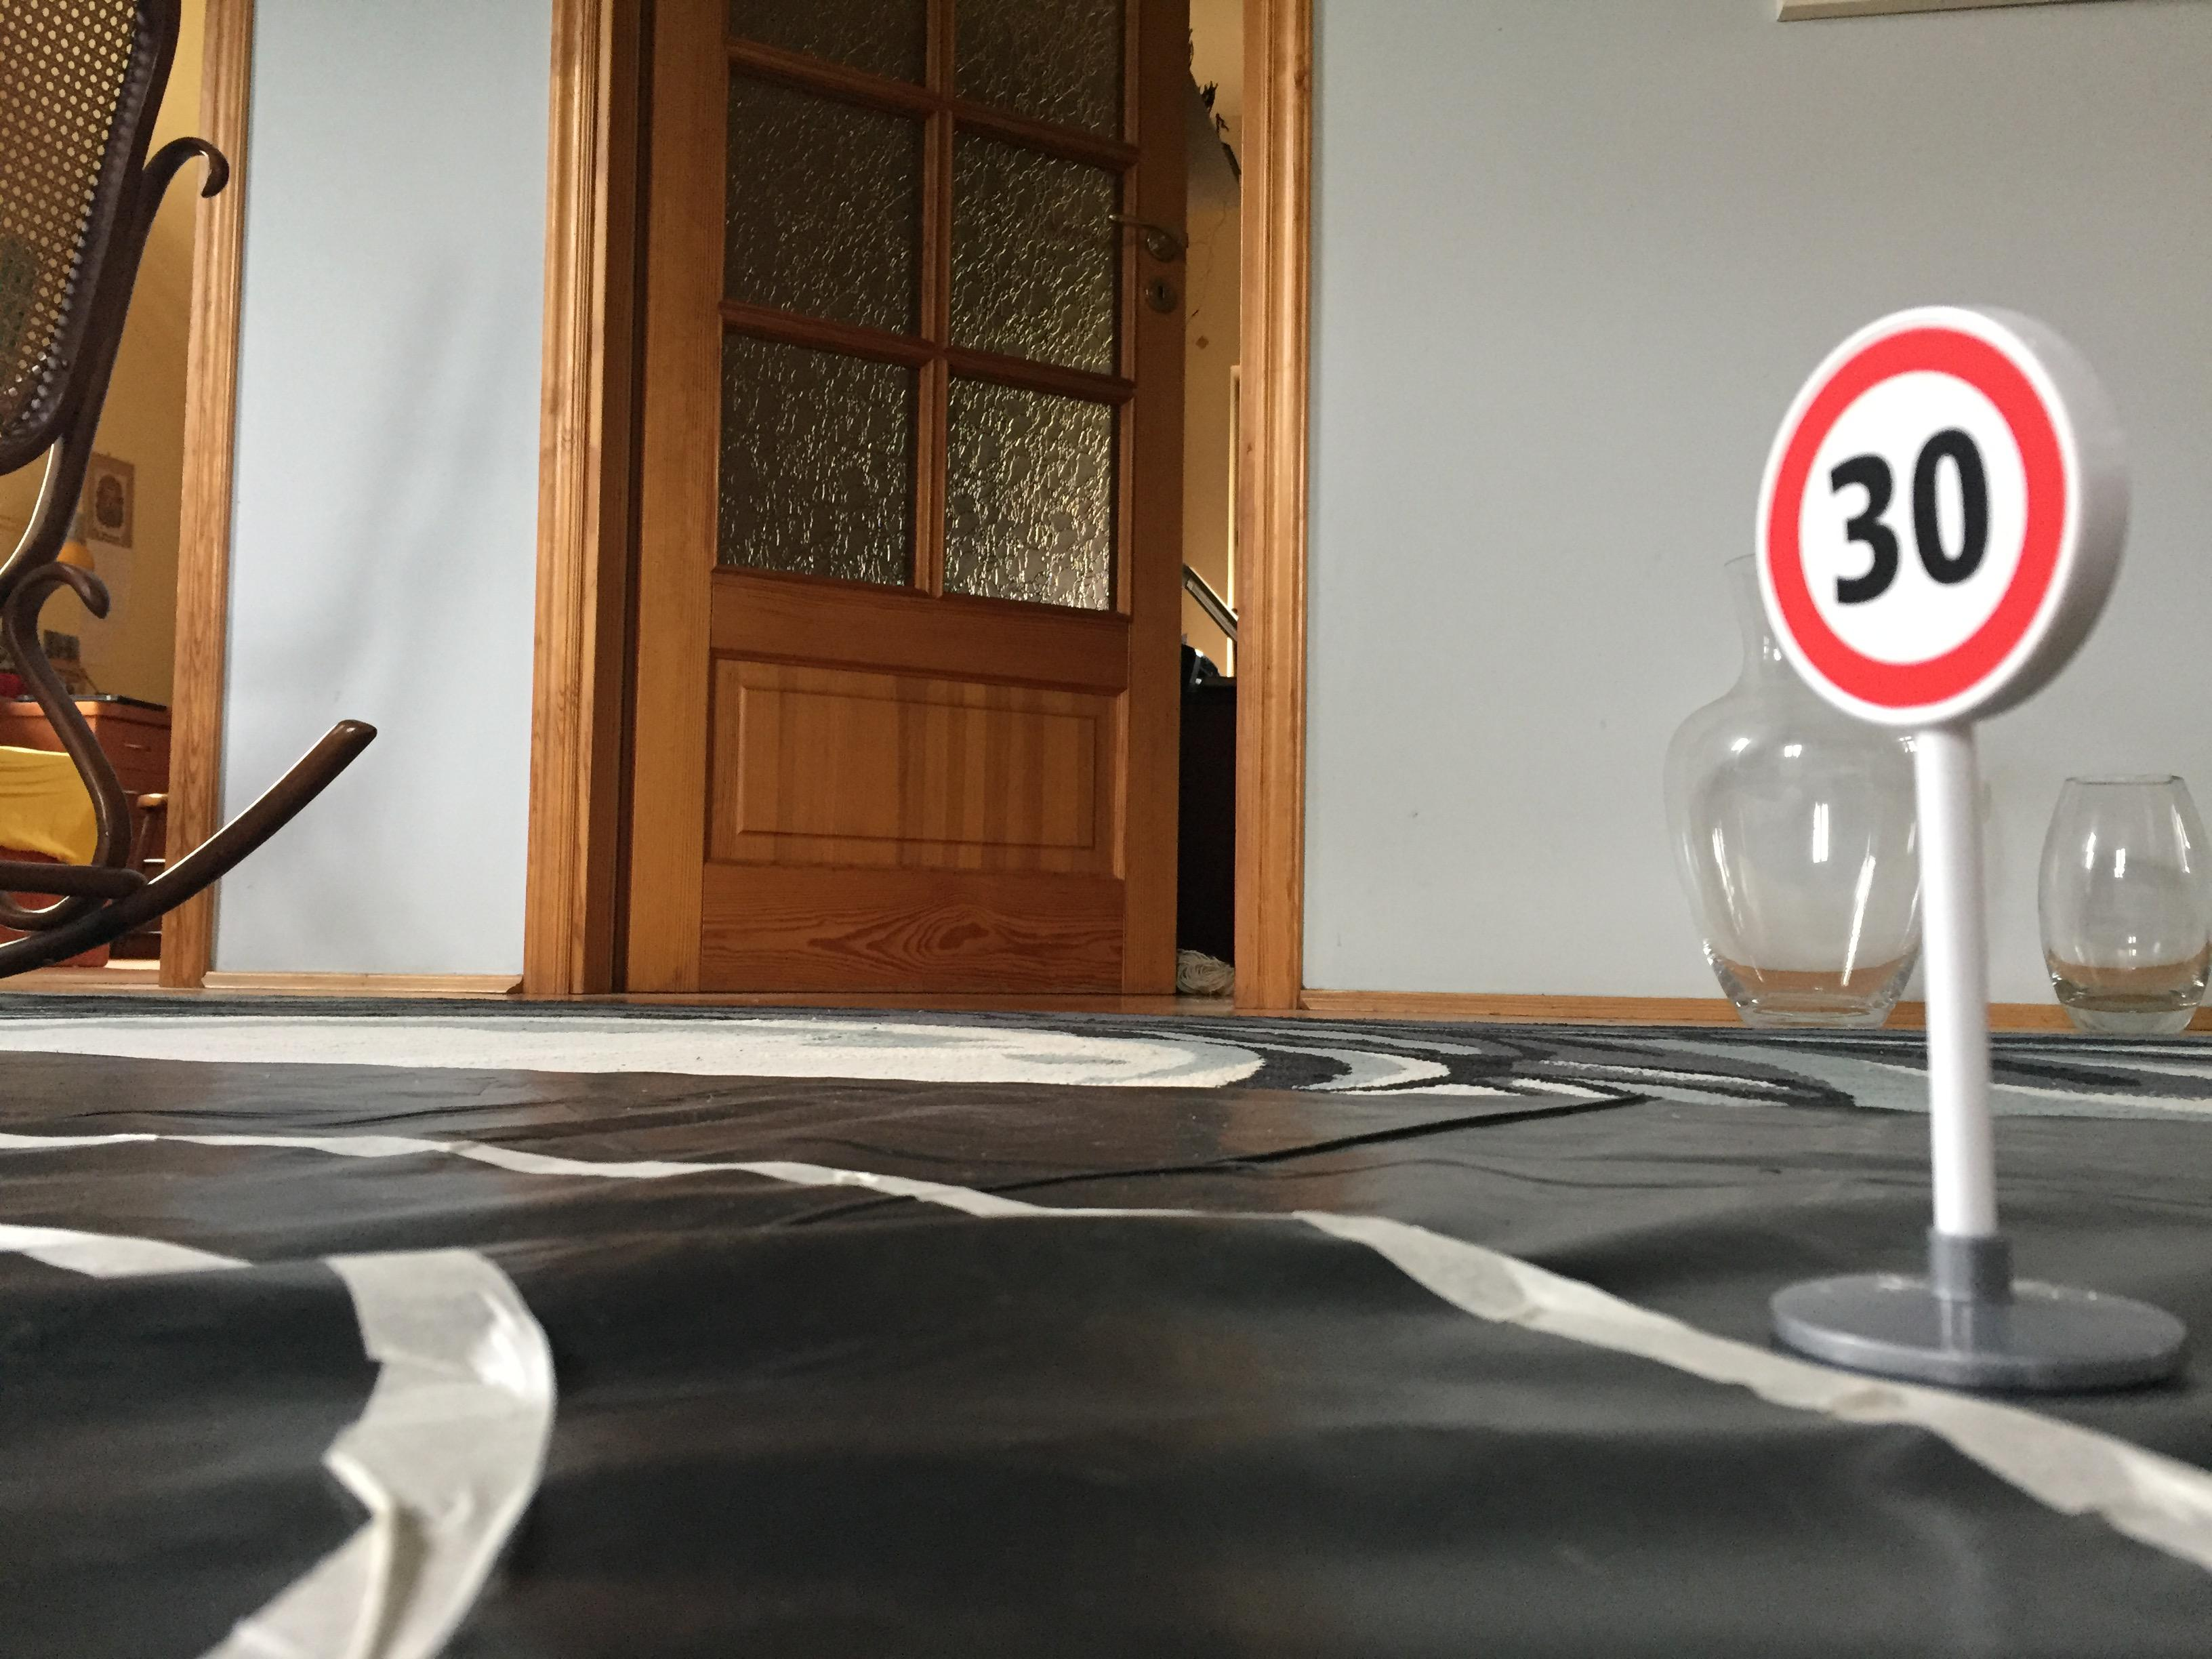speed: (1745, 293, 2137, 735)
